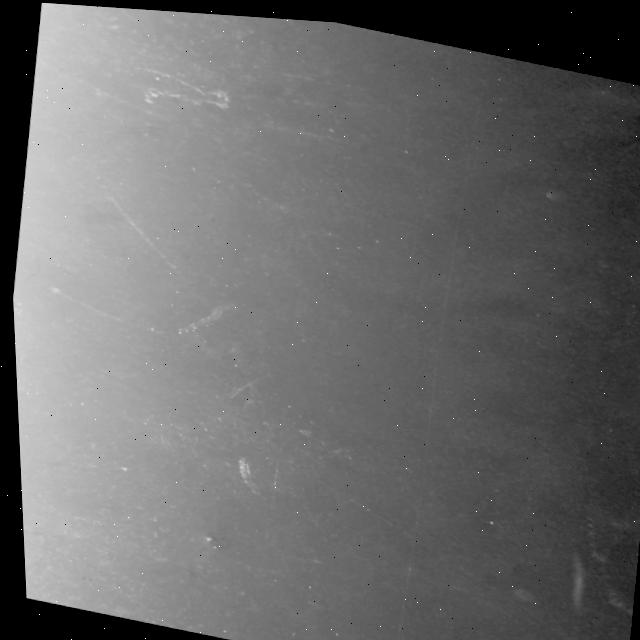beta: (277, 461, 640, 640), (81, 172, 203, 280), (177, 161, 341, 235), (31, 54, 171, 119), (40, 284, 167, 335), (127, 61, 237, 118), (250, 58, 338, 82), (222, 362, 271, 403)
